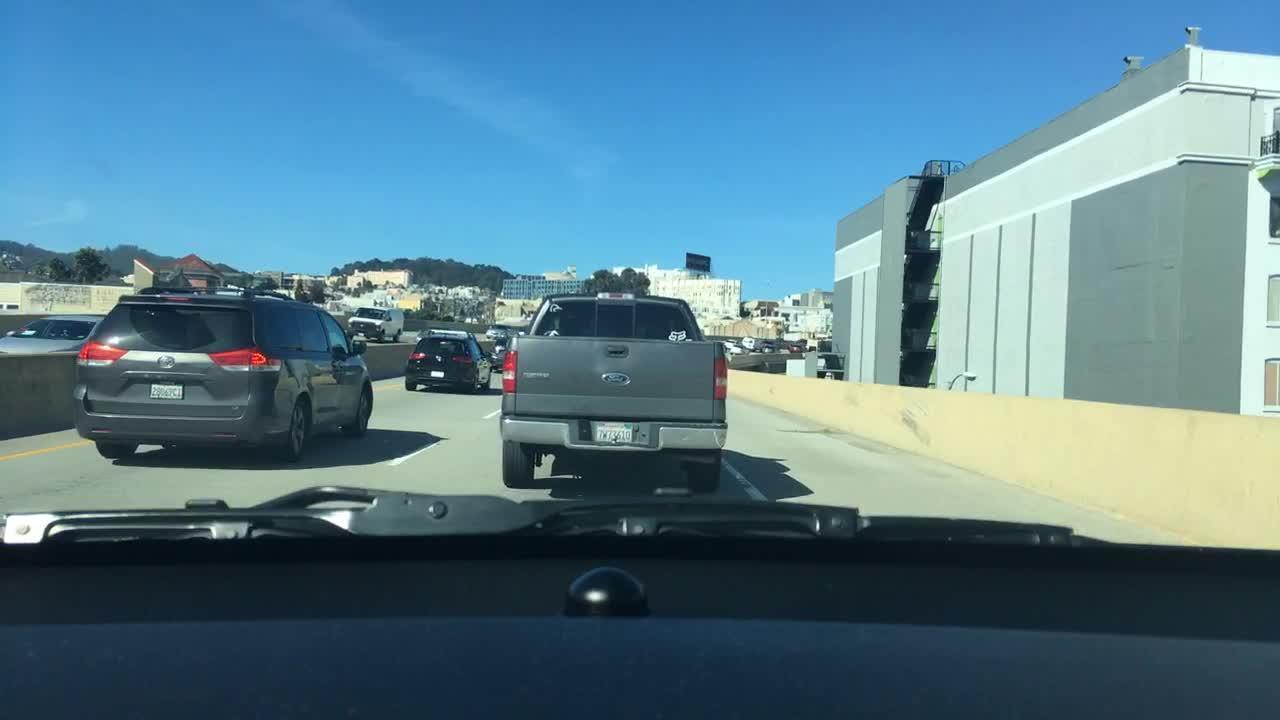Toyota: (154, 352, 177, 369)
ford: (593, 364, 645, 394)
